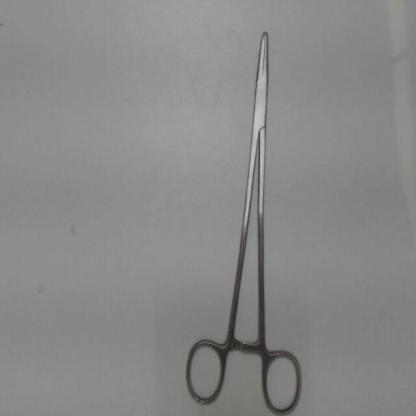8 Mayo Needle Holder: (177, 16, 309, 414)
